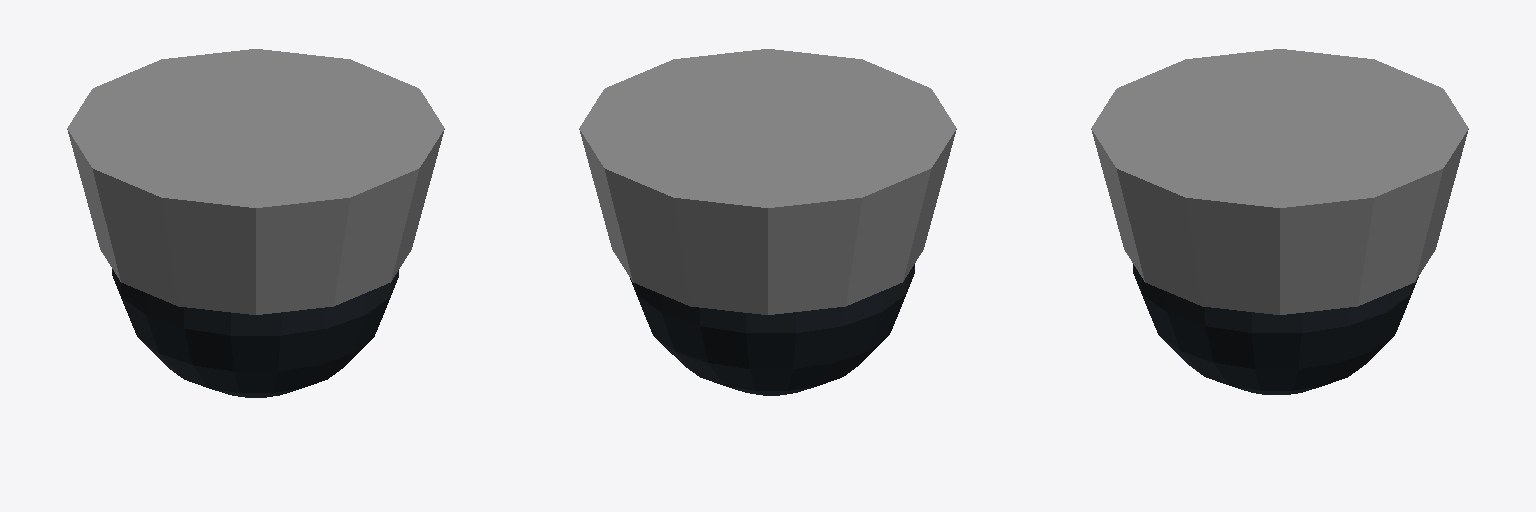
Rendered from af_sp_qiu.obj.
The picture shows the model from 3 angles: view 1: azimuth 30°, elevation 25°; view 2: azimuth 150°, elevation 25°; view 3: azimuth 270°, elevation 25°; orthographic projection.
Parts seen in each view (by area): view 1: af_sp_qiu; view 2: af_sp_qiu; view 3: af_sp_qiu.
Part boxes in pixels (x1,y1,x2,y2): af_sp_qiu: (67,49,444,397); af_sp_qiu: (579,49,956,395); af_sp_qiu: (1091,49,1468,394).
Size of the model in its own units: 10.01 by 7.46 by 10.01.